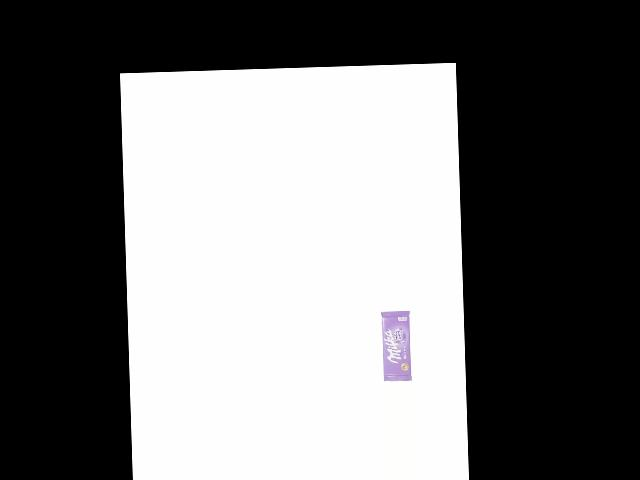chocolate: (379, 306, 415, 382)
